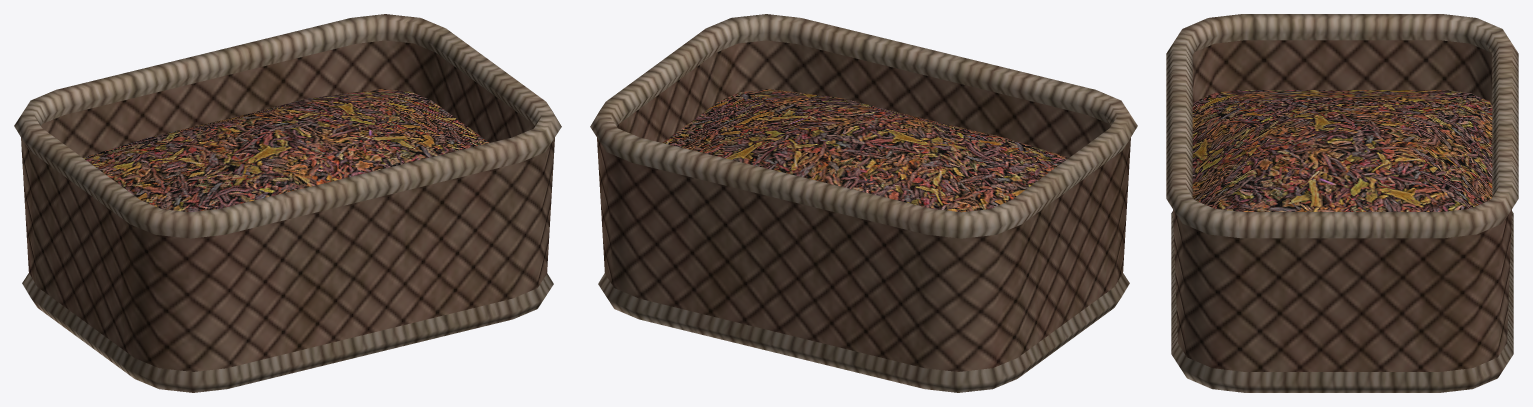
File: village_wicker_basket_12.fbx
3 views of the same model, side by side, from view 1: azimuth 30°, elevation 25°; view 2: azimuth 150°, elevation 25°; view 3: azimuth 270°, elevation 25° (orthographic).
Visible parts, largest first — view 1: village_wicker_basket_12; view 2: village_wicker_basket_12; view 3: village_wicker_basket_12.
Part boxes in pixels (x1,y1,x2,y2): village_wicker_basket_12: (14, 14, 561, 392); village_wicker_basket_12: (590, 14, 1137, 392); village_wicker_basket_12: (1166, 14, 1518, 392).
Size of the model in its own units: 66.31 by 26.41 by 47.24.
